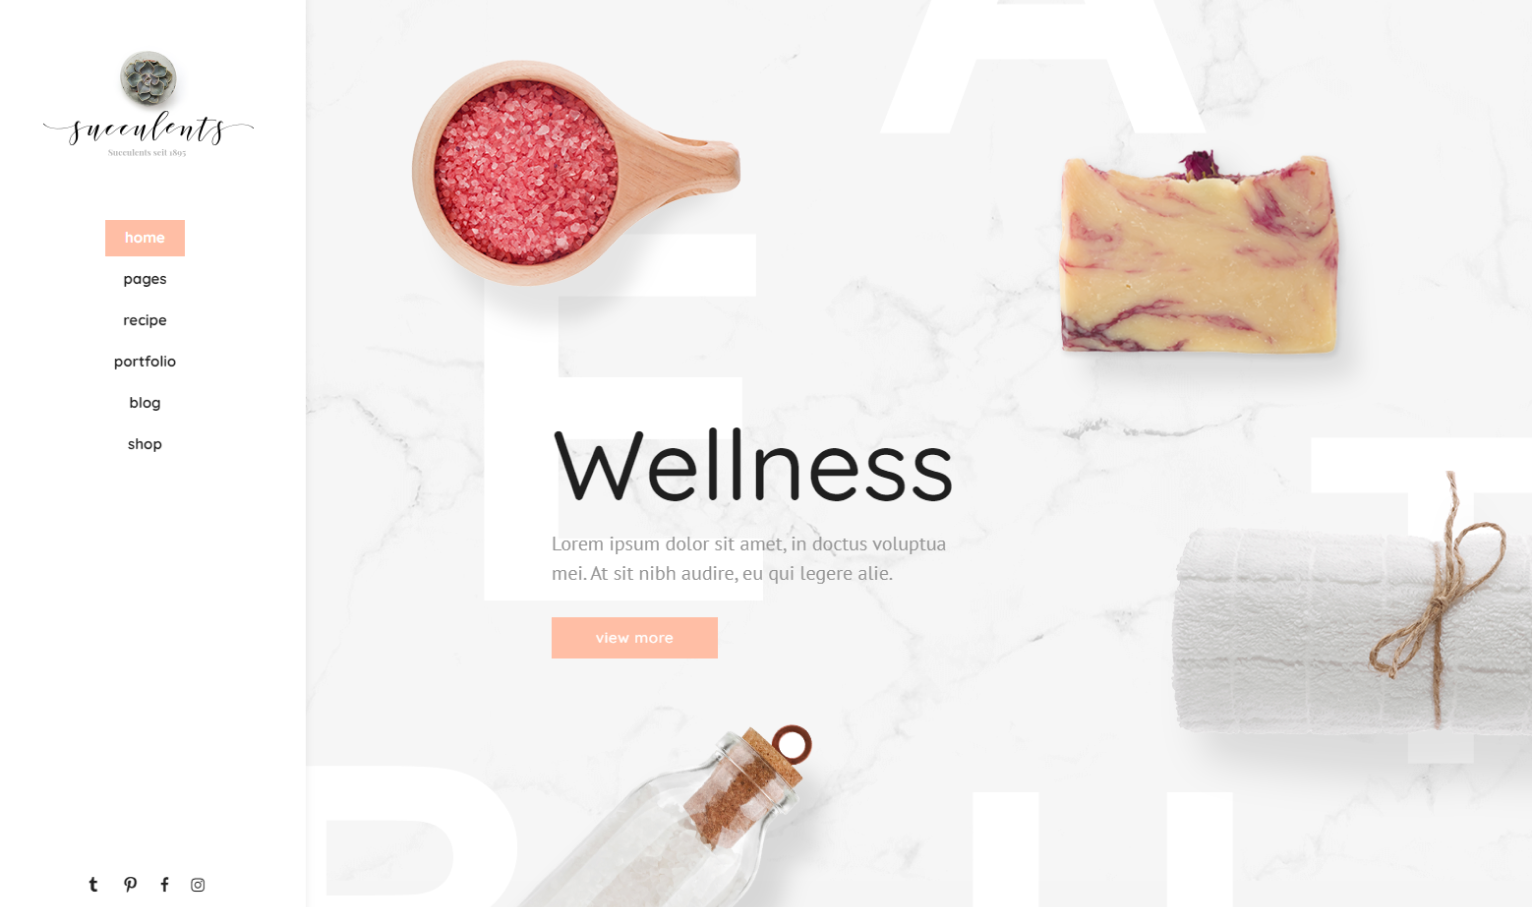menu-bar: (23, 11, 283, 904)
